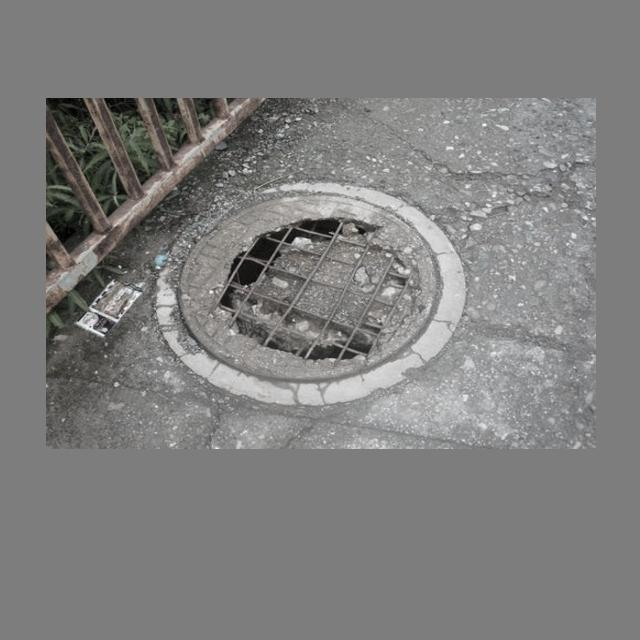broke: (160, 180, 467, 408)
